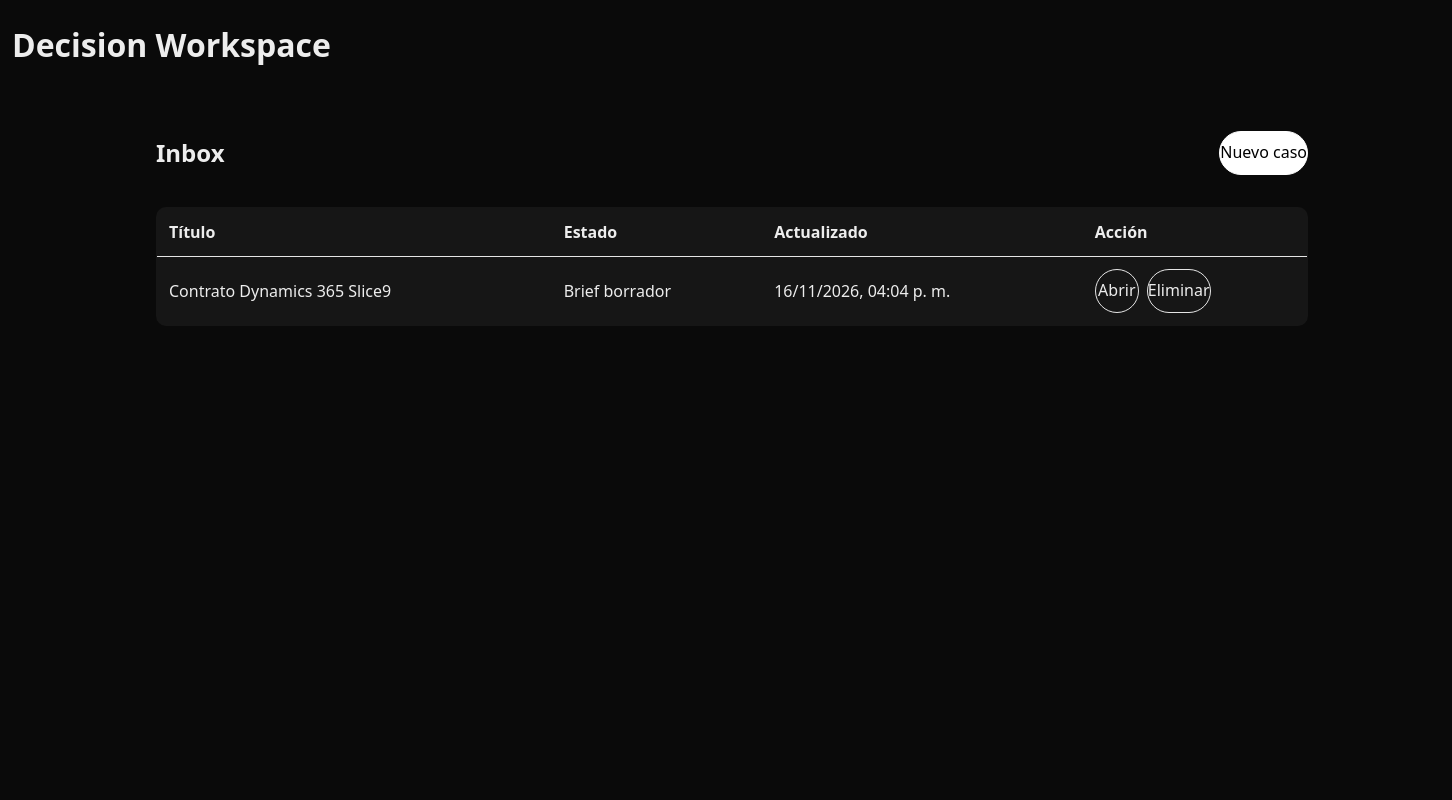
it: slice9 brief ui › mark reviewed requires click and persists without changing case status
Click the button "Abrir" at (1117,291), box x1=1095 y1=269 x2=1139 y2=313
(page scrolled)
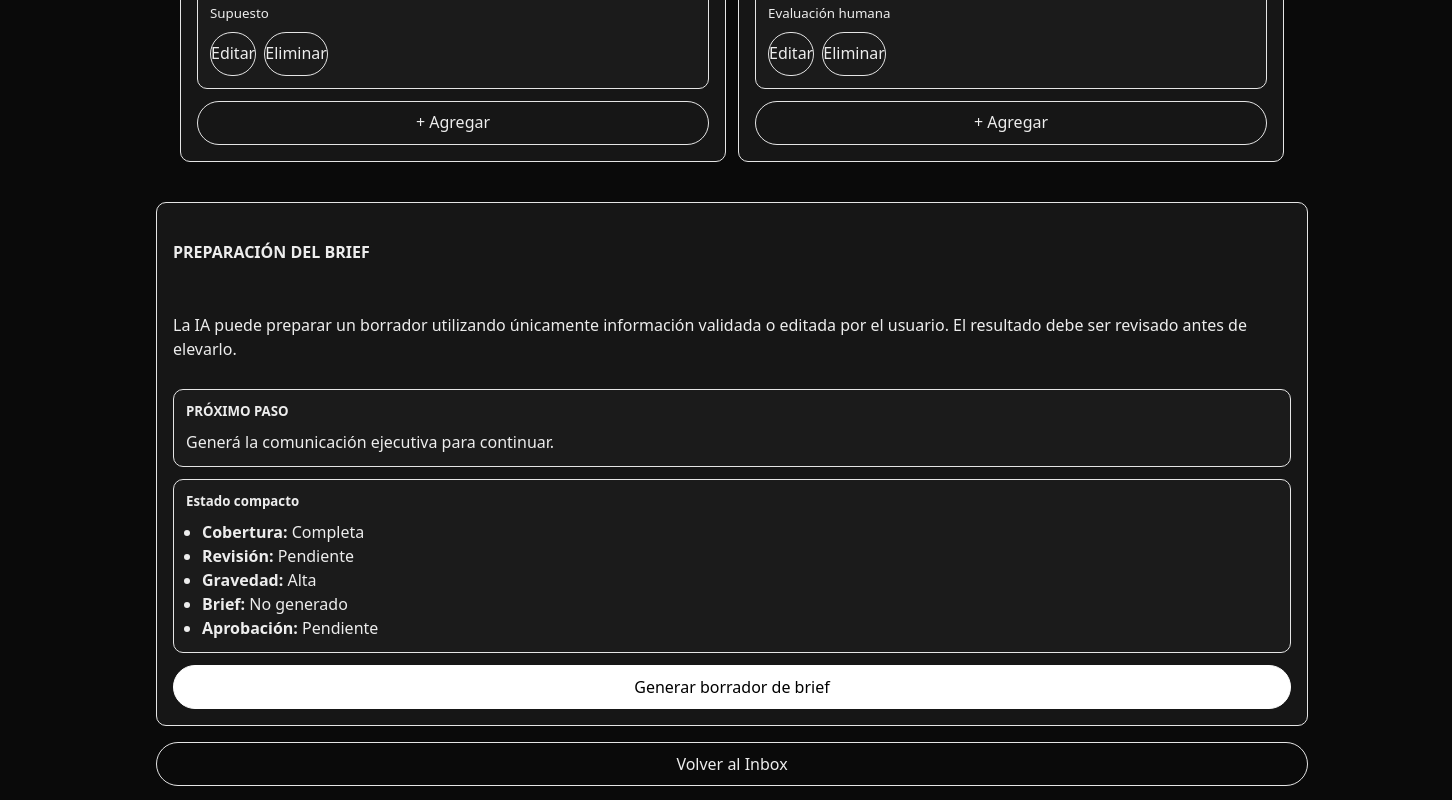
Click the button "Generar borrador de brief" at (732,687), box x1=173 y1=665 x2=1291 y2=709
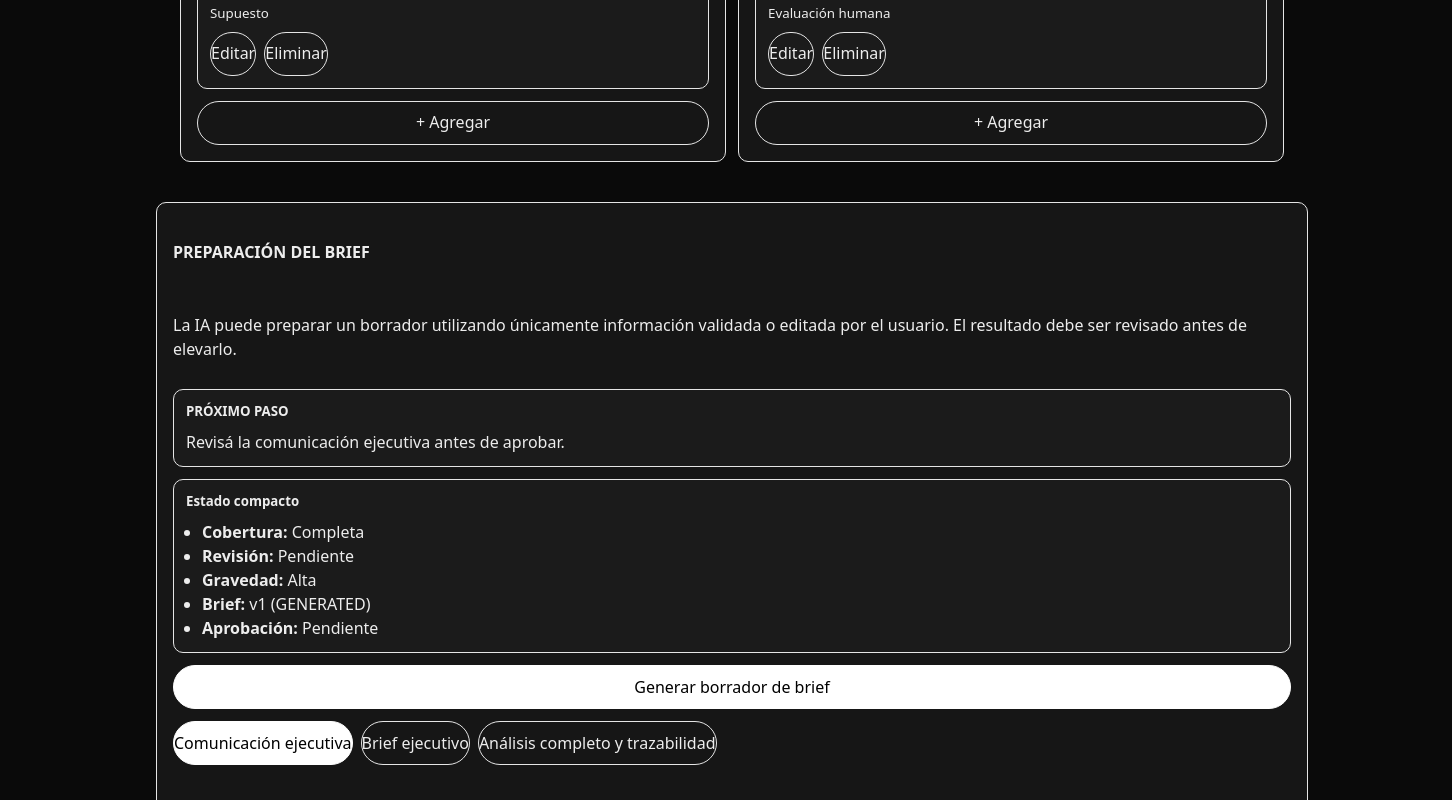
Expected: the tab "Brief ejecutivo" is shown
Click the tab "Brief ejecutivo" at (415,743), box x1=361 y1=721 x2=470 y2=765
(page scrolled)
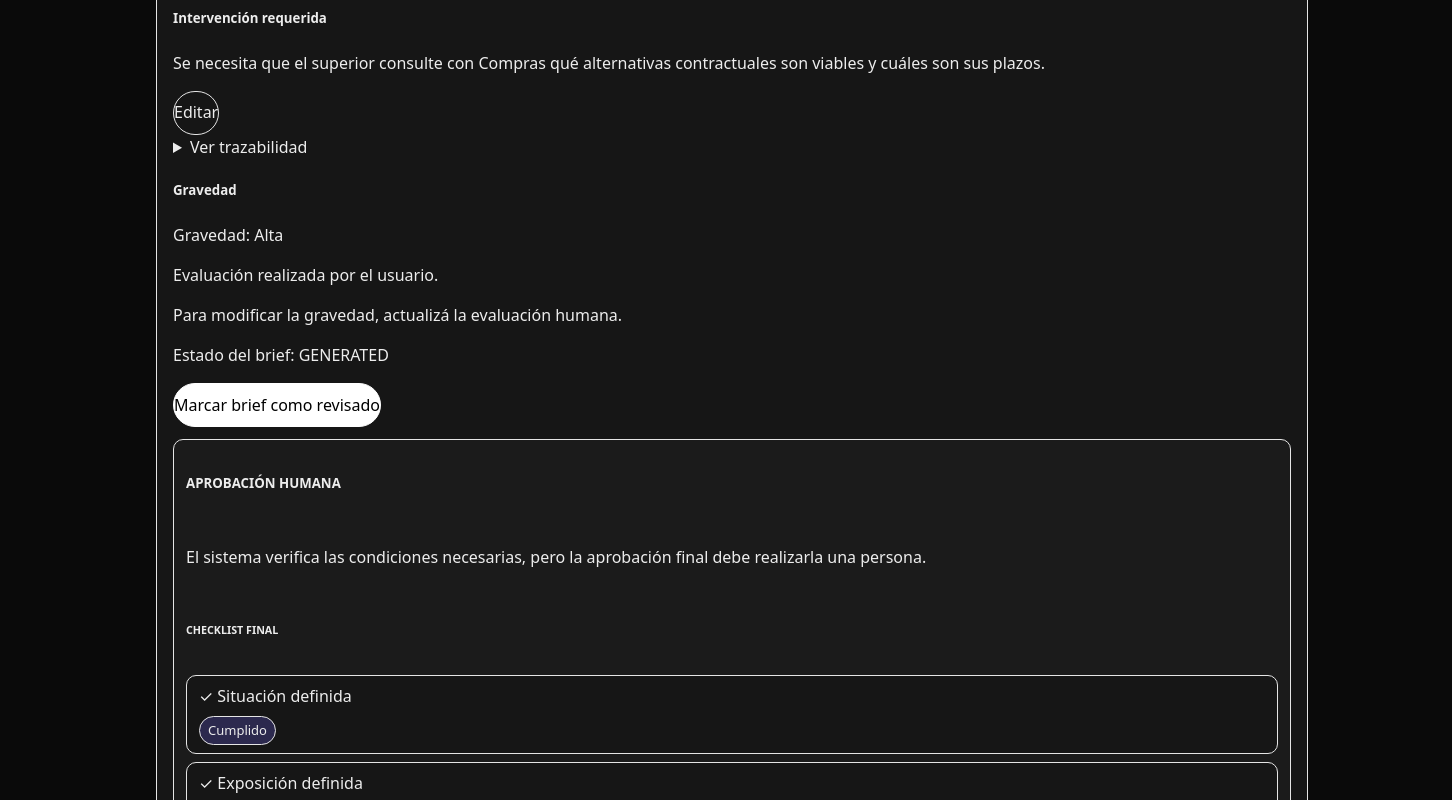
Expected: the button "Marcar brief como revisado" is shown
Click the button "Marcar brief como revisado" at (277,405), box x1=173 y1=383 x2=381 y2=427
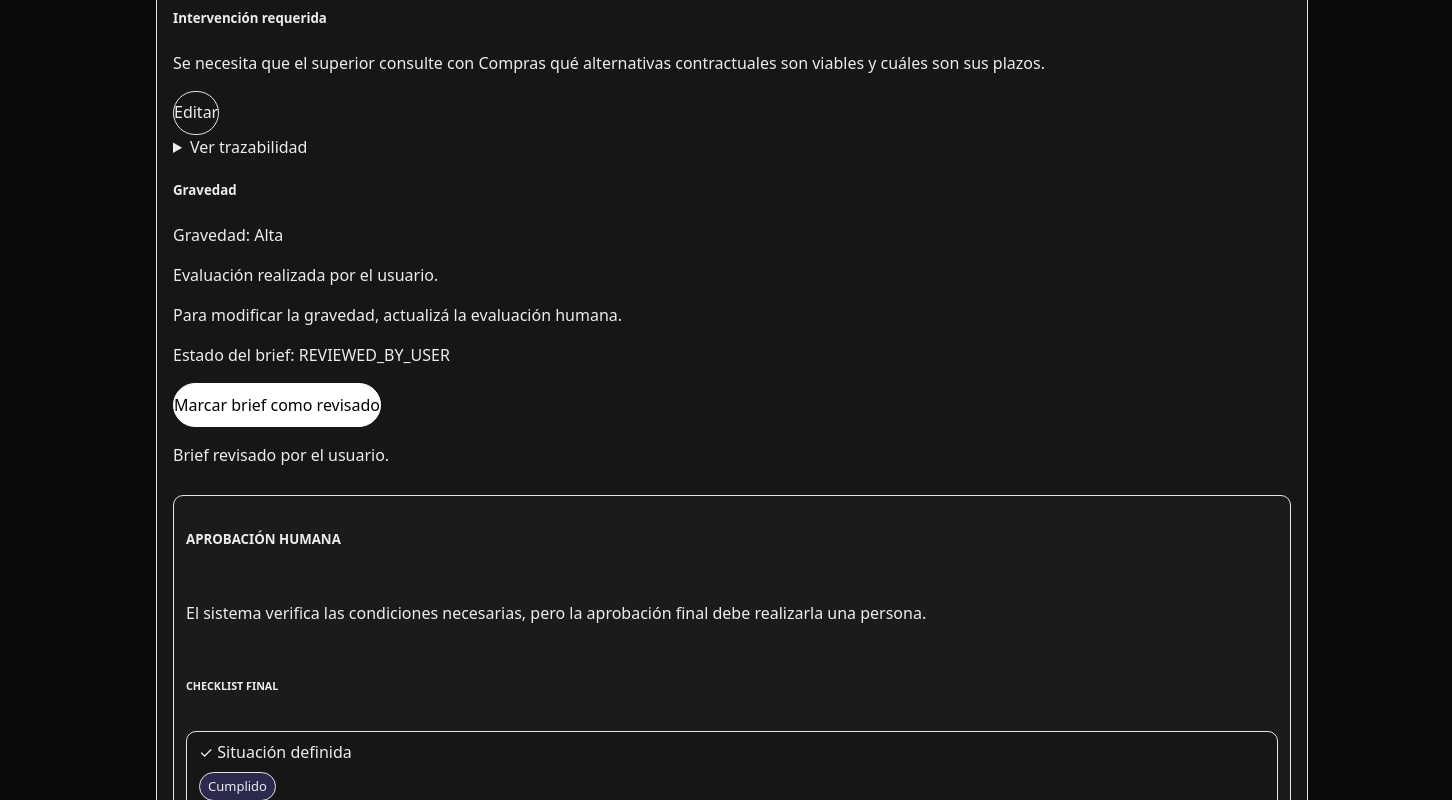
Expected: the text "Brief revisado por el usuario." is shown, x1=173 y1=444 x2=389 y2=466
